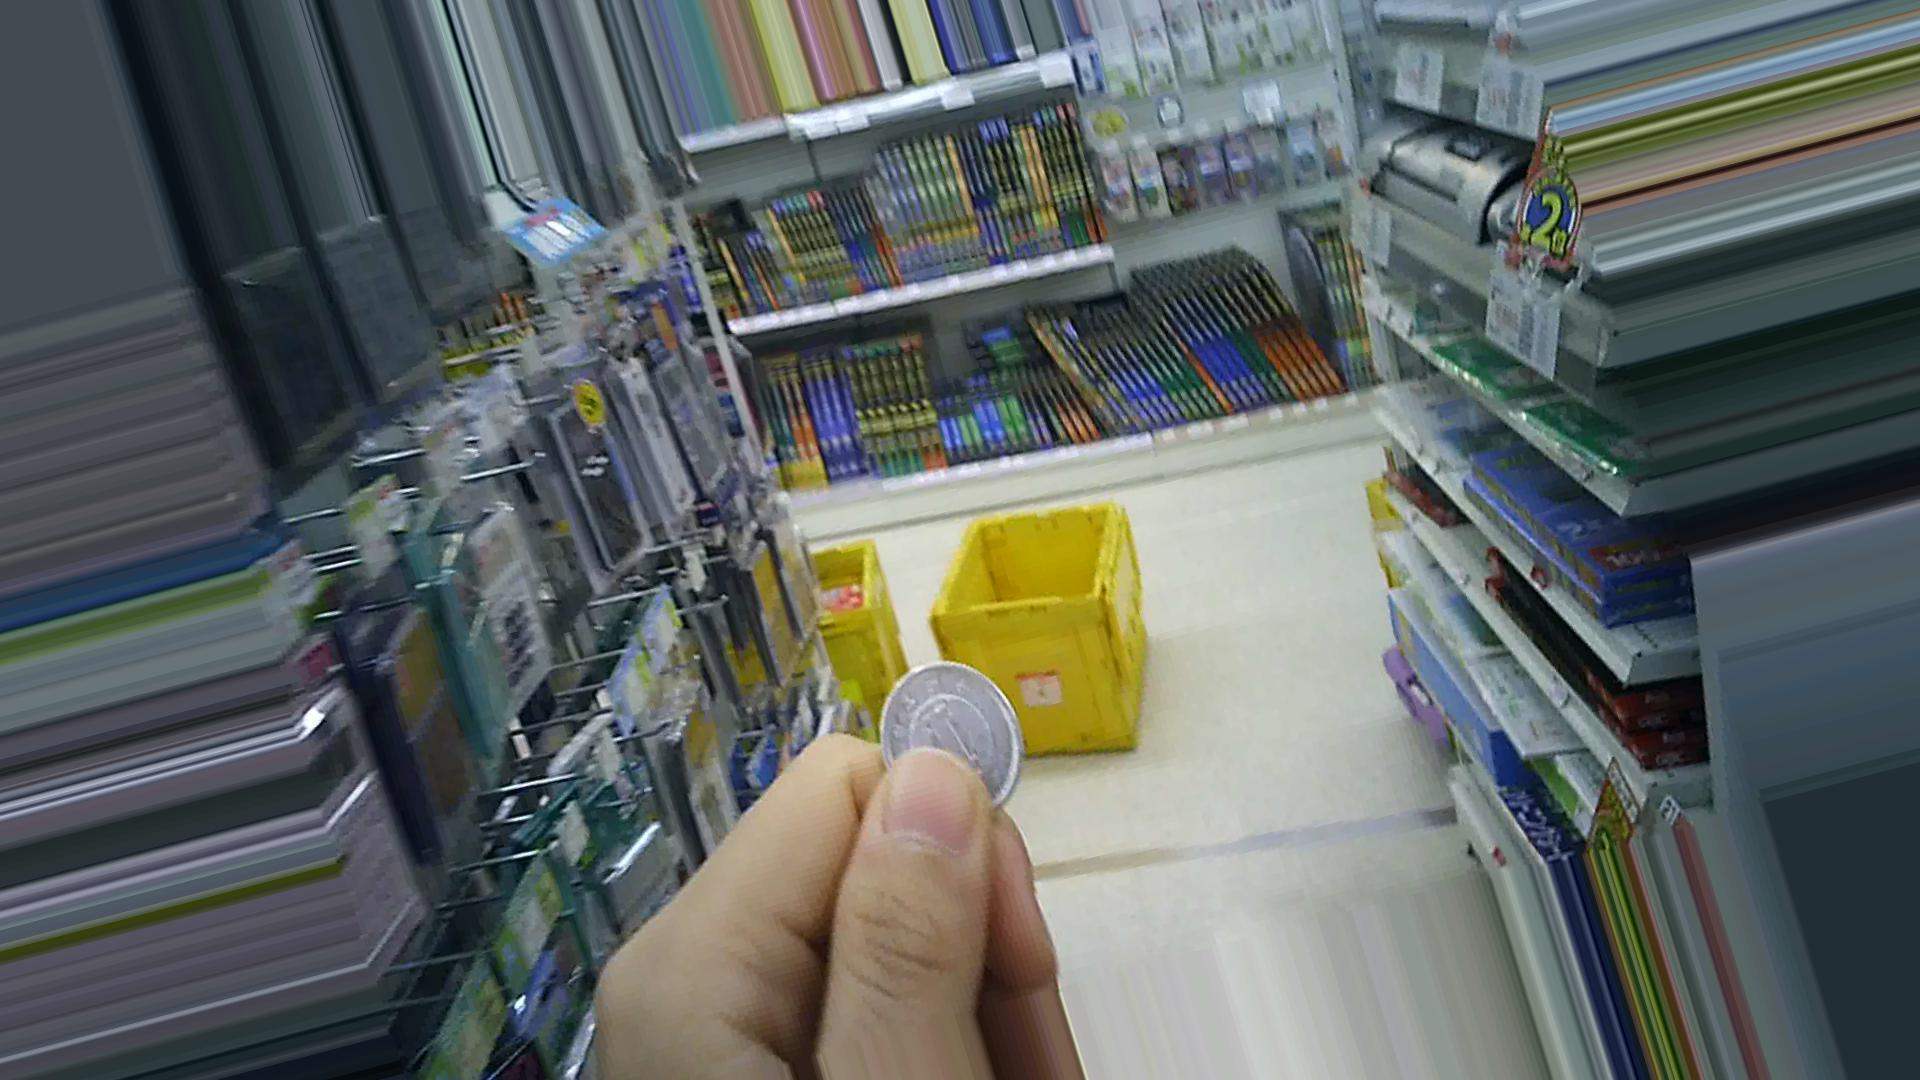1 Yen: (874, 659, 1050, 807)
